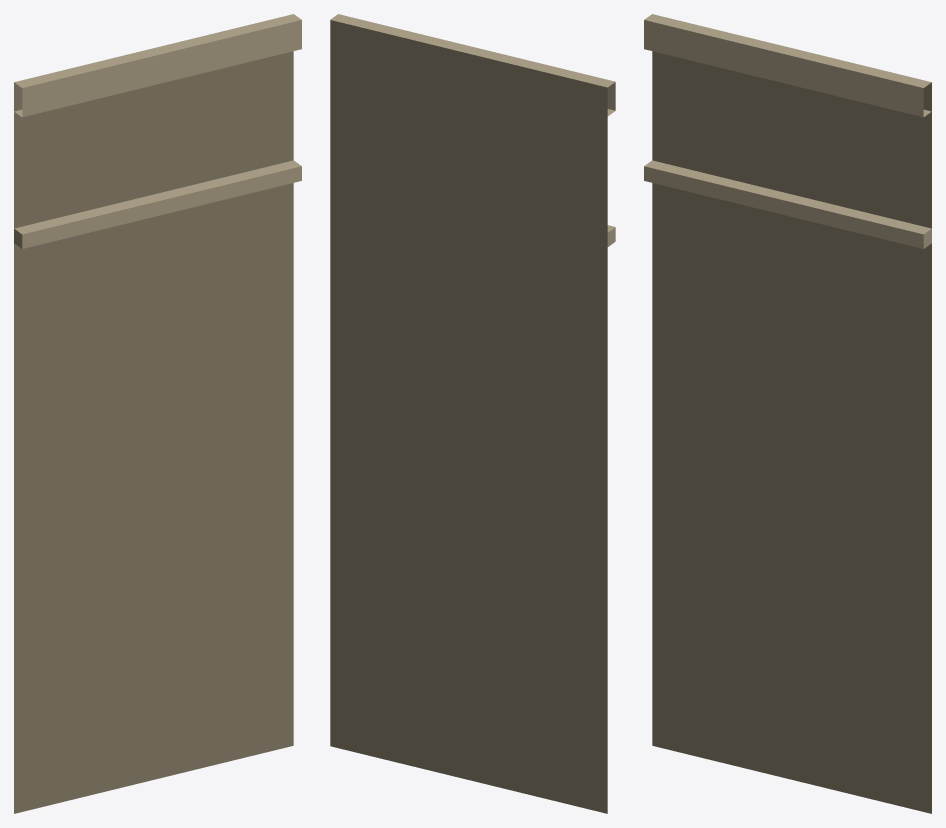
Rendered from Wall1.fbx.
3 renders of one model, left to right at view 1: azimuth 30°, elevation 25°; view 2: azimuth 150°, elevation 25°; view 3: azimuth 330°, elevation 25°, orthographic.
Visible parts, largest first — view 1: Plane.001; view 2: Plane.001; view 3: Plane.001.
Part boxes in pixels (x1,y1,x2,y2): Plane.001: (14, 14, 301, 813); Plane.001: (330, 14, 615, 813); Plane.001: (644, 14, 931, 813).
Bounding box in the file's own units: 400 × 1000 × 20.
